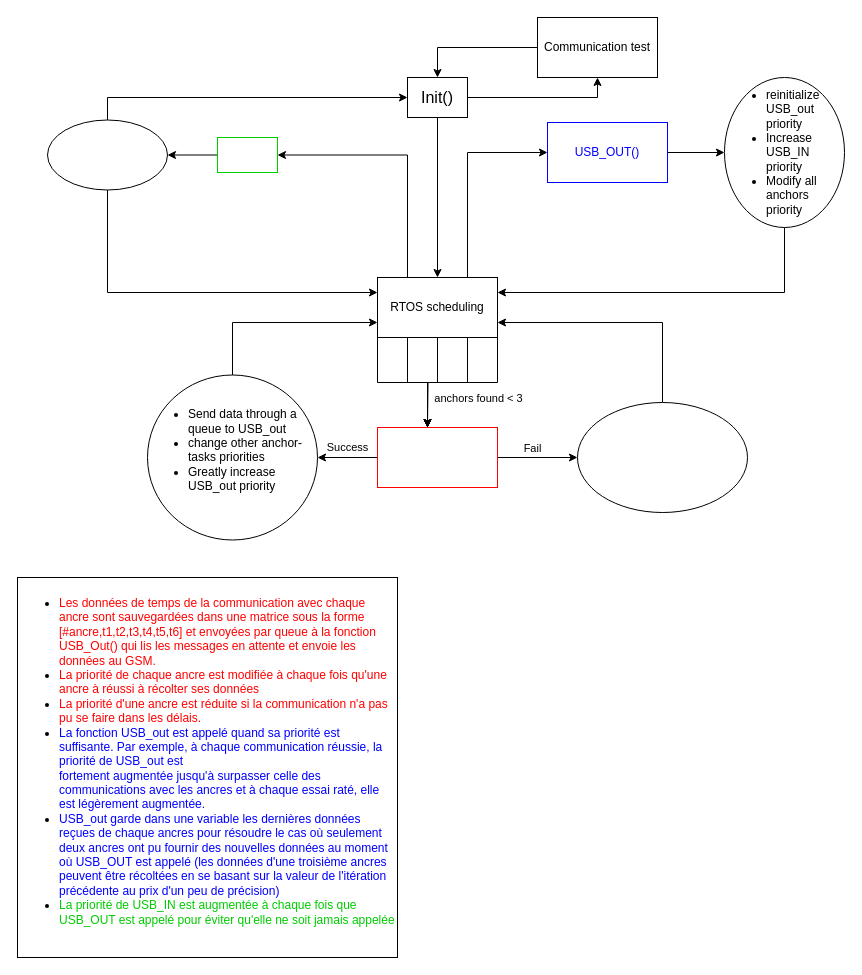
This 862x975 diagram has some shape labels left out. Each missing label, with the box of its shape:
Communication with anchor x: (376, 426, 498, 488)
continue or reset PSoC: (46, 119, 168, 190)
Decrease anchor x 's task priority slightly increase USB_out() priority: (576, 402, 748, 512)
USB_IN(): (216, 136, 278, 172)
